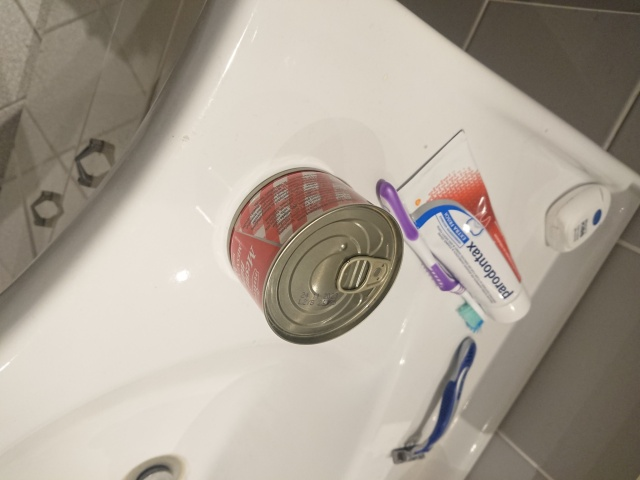Podravka Luncheon Meat 150g: (224, 164, 406, 349)
